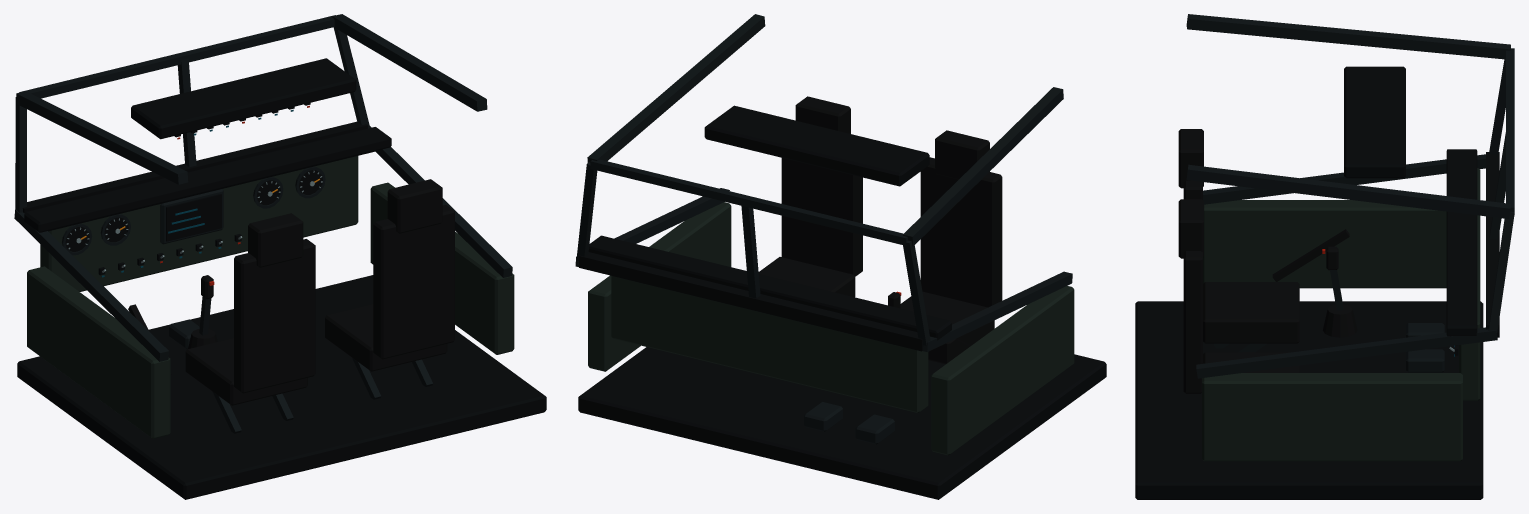
Rendered from Cockpit_Rotorcraft.obj.
3 renders of one model, left to right at view 1: azimuth 30°, elevation 25°; view 2: azimuth 150°, elevation 25°; view 3: azimuth 270°, elevation 25°, orthographic. The views are drawn at different scales.
Parts seen in each view (by area): view 1: Floor, Wide_panel, Side_console, Seat_back.001, Seat_back, Glare_shield, Overhead_breaker_panel, Side_console.001, Windscreen_brow, Windscreen_sill, Canopy_roof_rail, Seat_cushion.001 (+11 smaller); view 2: Floor, Wide_panel, Side_console, Seat_back, Overhead_breaker_panel, Seat_back.001, Glare_shield, Windscreen_sill, Side_console.001, Windscreen_brow, Canopy_roof_rail.001, Canopy_roof_rail (+11 smaller); view 3: Floor, Side_console.001, Side_console, Overhead_breaker_panel, Seat_cushion, Glare_shield, Canopy_roof_rail.001, Canopy_roof_rail, Cabin_lower_rail.001, Seat_back.001, Cabin_lower_rail, Wide_panel (+12 smaller).
Part boxes in pixels (<box>): Floor: <box>17,275,546,499</box>; Wide_panel: <box>40,156,358,291</box>; Side_console: <box>27,266,170,438</box>; Seat_back.001: <box>373,205,454,359</box>; Seat_back: <box>234,239,315,393</box>; Glare_shield: <box>24,127,391,232</box>; Overhead_breaker_panel: <box>131,58,356,139</box>; Side_console.001: <box>370,182,514,354</box>; Windscreen_brow: <box>19,15,335,98</box>; Windscreen_sill: <box>22,121,367,213</box>; Canopy_roof_rail: <box>16,91,188,184</box>; Seat_cushion.001: <box>325,304,447,371</box>; Floor: <box>578,347,1106,499</box>; Wide_panel: <box>611,276,928,412</box>; Side_console: <box>931,286,1074,455</box>; Seat_back: <box>920,157,1002,307</box>; Overhead_breaker_panel: <box>704,105,929,186</box>; Seat_back.001: <box>781,158,862,276</box>; Glare_shield: <box>588,235,951,340</box>; Windscreen_sill: <box>579,252,923,351</box>; Side_console.001: <box>588,202,731,371</box>; Windscreen_brow: <box>590,159,907,245</box>; Canopy_roof_rail.001: <box>587,14,765,162</box>; Canopy_roof_rail: <box>903,87,1063,246</box>; Floor: <box>1135,301,1483,499</box>; Side_console.001: <box>1202,373,1462,461</box>; Side_console: <box>1203,200,1446,288</box>; Overhead_breaker_panel: <box>1344,66,1405,178</box>; Seat_cushion: <box>1203,282,1299,343</box>; Glare_shield: <box>1446,149,1477,336</box>; Canopy_roof_rail.001: <box>1186,164,1510,218</box>; Canopy_roof_rail: <box>1186,14,1510,59</box>; Cabin_lower_rail.001: <box>1196,327,1497,378</box>; Seat_back.001: <box>1183,251,1202,393</box>; Cabin_lower_rail: <box>1203,154,1485,204</box>; Wide_panel: <box>1459,168,1480,400</box>.
Bounding box in the file's own units: 2.24 × 1.79 × 1.96.
